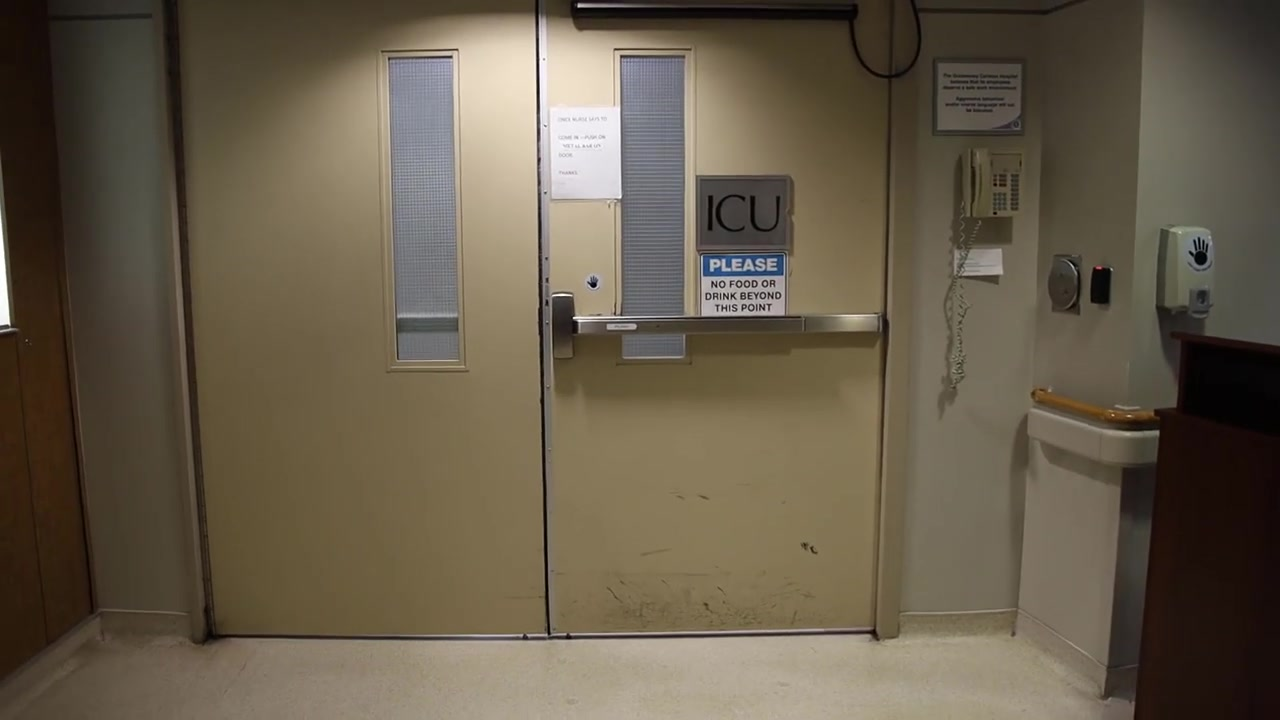counter: (1131, 329, 1280, 720)
dispenser: (1157, 226, 1212, 320)
hallway_assist_bar: (1027, 382, 1160, 473)
press_to_open: (1045, 256, 1084, 316)
push_latch: (551, 293, 888, 360)
telephone: (956, 146, 1022, 220)
